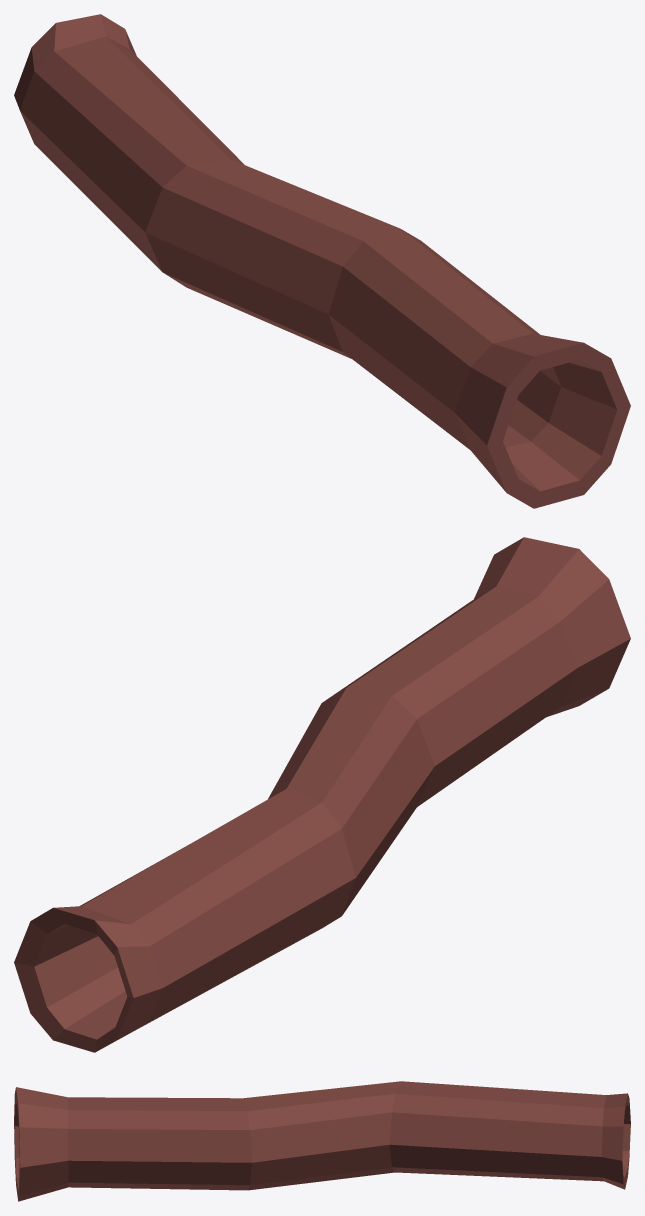
Rendered from Tronco - Caido.fbx.
3 views of the same model, one above another, from view 1: azimuth 30°, elevation 25°; view 2: azimuth 150°, elevation 25°; view 3: azimuth 270°, elevation 25° (orthographic). The views are drawn at different scales.
Parts seen in each view (by area): view 1: TroncoCaido; view 2: TroncoCaido; view 3: TroncoCaido.
Boxes of the visible parts, box(x1,y1,x2,y2) form: TroncoCaido: box(14, 14, 630, 508); TroncoCaido: box(14, 537, 630, 1052); TroncoCaido: box(14, 1081, 630, 1201).
Size of the model in its own units: 77.91 by 60.75 by 345.
